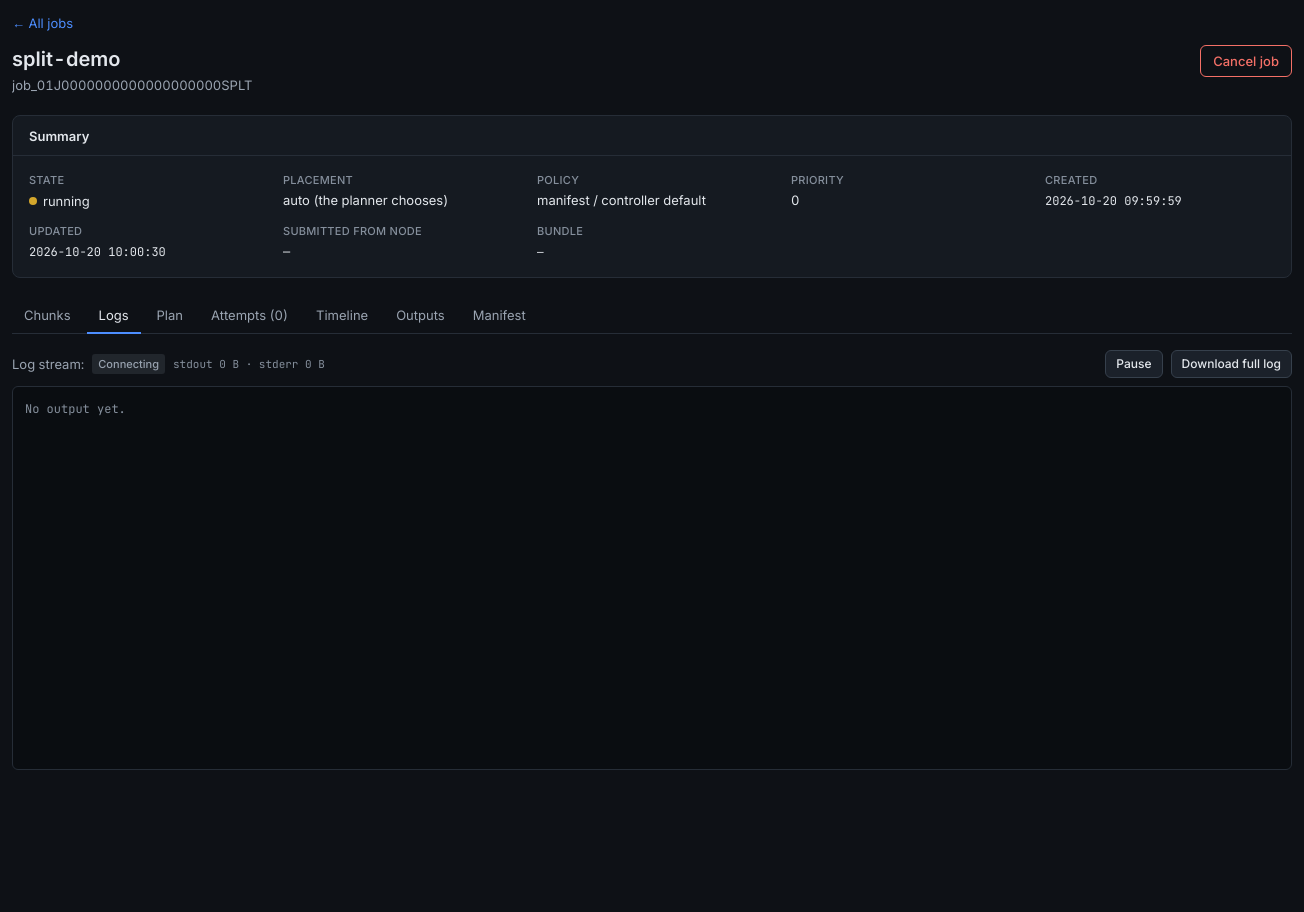
Test: Chunks tab with odd numbers › shows zero and huge (contract-valid) numbers without NaN or Infinity
Click the tab "Chunks". click: (47, 316)
box: [12, 298, 83, 334]
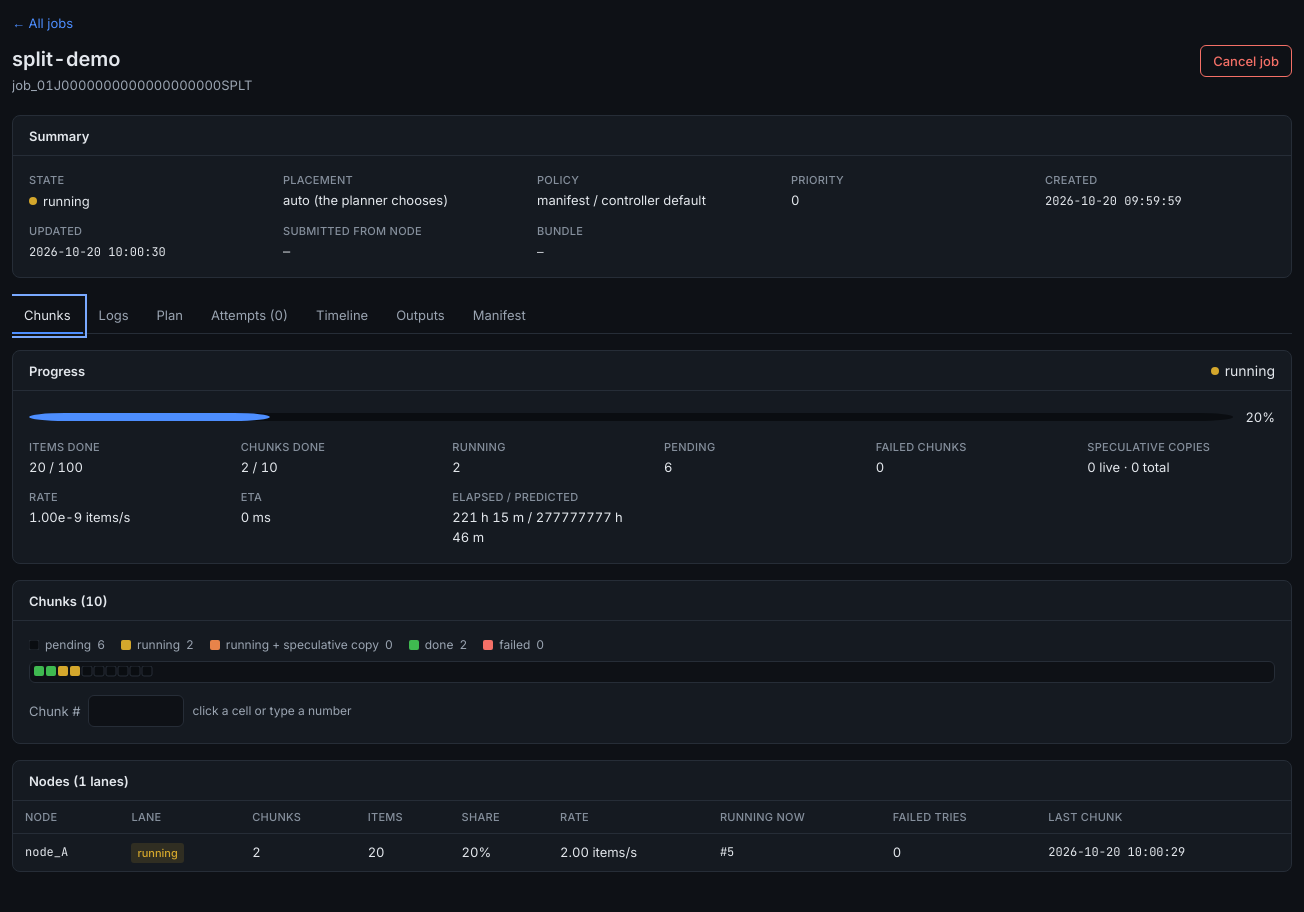
expect the element "Progress" is shown: met, box [12, 350, 1292, 564]
